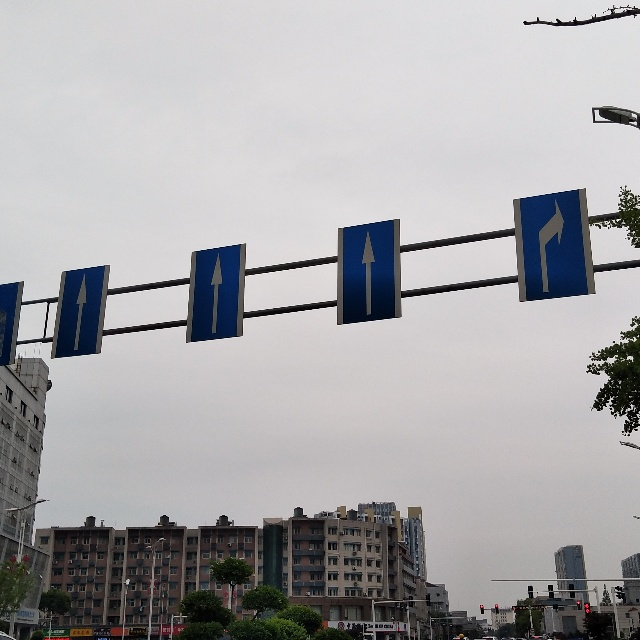right: (509, 184, 602, 305)
straight: (336, 218, 407, 329), (188, 239, 249, 349), (56, 268, 110, 359)
